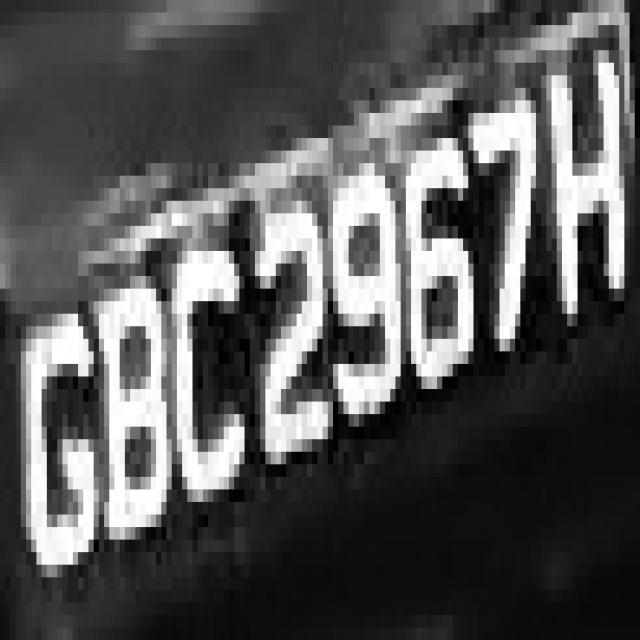2: (239, 176, 333, 489)
6: (395, 151, 484, 414)
7: (458, 75, 541, 414)
9: (317, 138, 411, 439)
B: (83, 239, 172, 552)
C: (161, 226, 250, 514)
G: (11, 276, 88, 615)
H: (536, 12, 635, 352)
